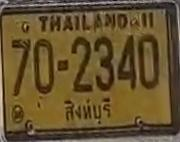0: (137, 34, 159, 88), (33, 38, 54, 93)
2: (71, 36, 90, 90)
3: (93, 36, 114, 90)
4: (117, 34, 136, 88)
7: (11, 38, 30, 96)
SBR: (59, 94, 115, 127)
